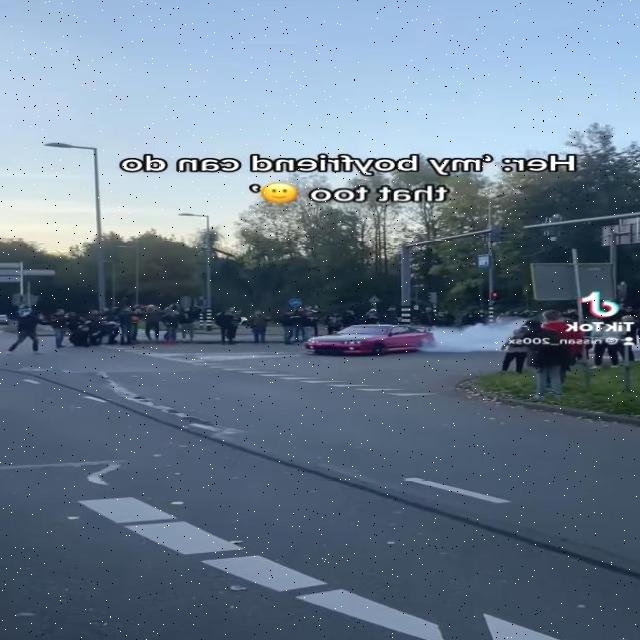car: (301, 322, 431, 361)
